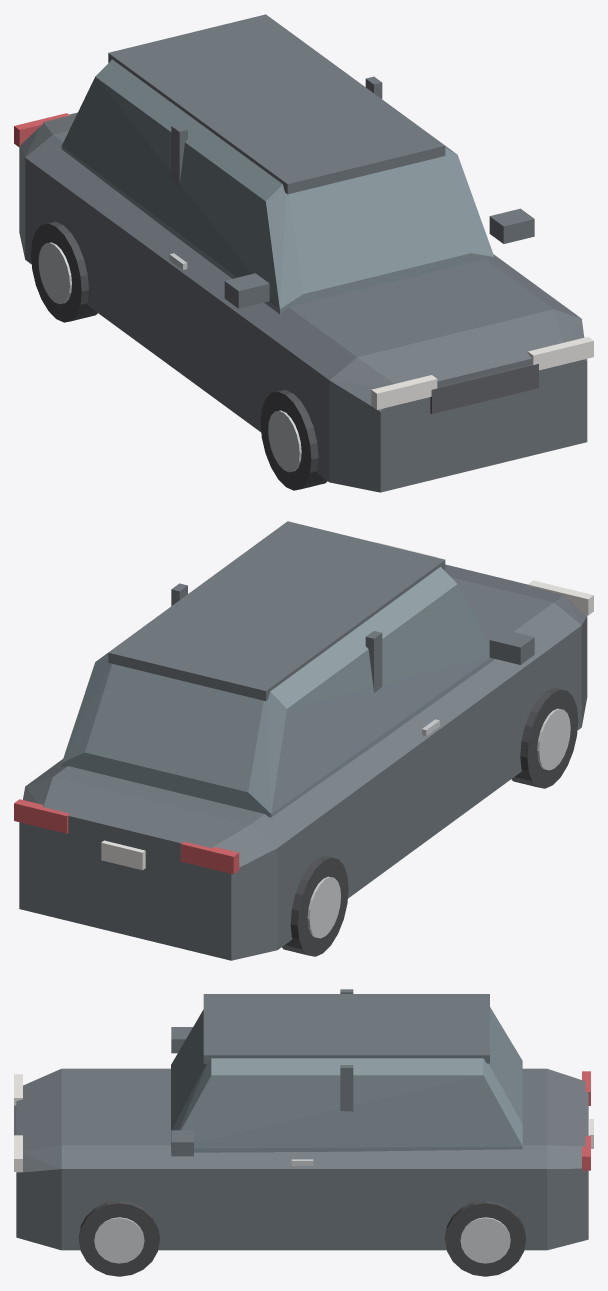
Rendered from range-rover-2025.glb.
The picture shows the model from 3 angles, top to bottom: view 1: azimuth 30°, elevation 25°; view 2: azimuth 150°, elevation 25°; view 3: azimuth 270°, elevation 25°; orthographic projection. The views are drawn at different scales.
Parts seen in each view (by area): view 1: body, cabin_glass, roof, wheel_-1_1_tire, wheel_-1_-1_tire, grille, wheel_-1_-1_rim, wheel_-1_1_rim, headlight_-1, headlight_1, mirror_-1, mirror_1 (+1 smaller); view 2: body, cabin_glass, roof, wheel_-1_1_tire, wheel_-1_-1_tire, wheel_-1_1_rim, wheel_-1_-1_rim, taillight_-1, mirror_-1, taillight_1, rear_plate, pillar_-1 (+1 smaller); view 3: body, cabin_glass, roof, wheel_1_-1_tire, wheel_1_1_tire, wheel_1_1_rim, wheel_1_-1_rim, pillar_1, mirror_1, mirror_-1.
Boxes of the visible parts, box(x1,y1,x2,y2) form: body: box(19, 112, 587, 492); cabin_glass: box(61, 59, 494, 314); roof: box(108, 14, 445, 194); wheel_-1_1_tire: box(260, 390, 327, 490); wheel_-1_-1_tire: box(31, 221, 97, 322); grille: box(430, 364, 538, 413); wheel_-1_-1_rim: box(38, 242, 71, 304); wheel_-1_1_rim: box(268, 410, 301, 472); headlight_-1: box(371, 375, 437, 409); headlight_1: box(527, 336, 593, 370); mirror_-1: box(224, 273, 269, 308); mirror_1: box(489, 208, 534, 243); body: box(19, 564, 587, 960); cabin_glass: box(61, 567, 494, 817); roof: box(108, 521, 445, 701); wheel_-1_1_tire: box(511, 688, 578, 788); wheel_-1_-1_tire: box(282, 856, 348, 956); wheel_-1_1_rim: box(537, 708, 570, 770); wheel_-1_-1_rim: box(307, 876, 340, 938); taillight_-1: box(180, 841, 239, 874); mirror_-1: box(489, 629, 534, 664); taillight_1: box(14, 799, 69, 833); rear_plate: box(101, 840, 145, 870); pillar_-1: box(365, 631, 382, 692); body: box(16, 1068, 588, 1250); cabin_glass: box(171, 1007, 522, 1152); roof: box(203, 994, 489, 1063); wheel_1_-1_tire: box(445, 1200, 525, 1276); wheel_1_1_tire: box(79, 1200, 159, 1276); wheel_1_1_rim: box(94, 1217, 144, 1263); wheel_1_-1_rim: box(460, 1217, 510, 1263); pillar_1: box(340, 1065, 353, 1111); mirror_1: box(171, 1130, 193, 1156); mirror_-1: box(171, 1027, 192, 1053).
Bounding box in the file's own units: 2.29 × 1.85 × 4.87.
